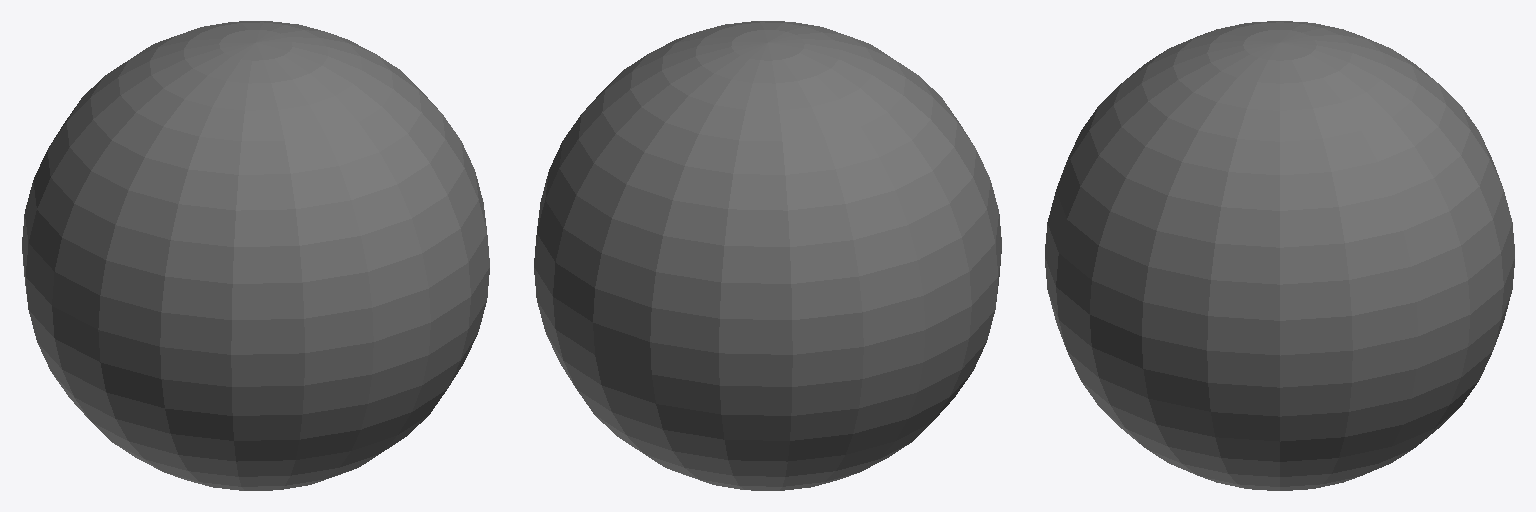
The model's file is SkysphereAttempt.obj.
3 renders of one model, left to right at view 1: azimuth 30°, elevation 25°; view 2: azimuth 150°, elevation 25°; view 3: azimuth 270°, elevation 25°, orthographic.
Parts seen in each view (by area): view 1: pSphere1_pSphere1_1001; view 2: pSphere1_pSphere1_1001; view 3: pSphere1_pSphere1_1001.
Boxes of the visible parts, box(x1,y1,x2,y2) form: pSphere1_pSphere1_1001: box(22, 21, 489, 490); pSphere1_pSphere1_1001: box(534, 21, 1001, 490); pSphere1_pSphere1_1001: box(1045, 21, 1514, 490).
Size of the model in its own units: 51.82 by 51.82 by 51.82.